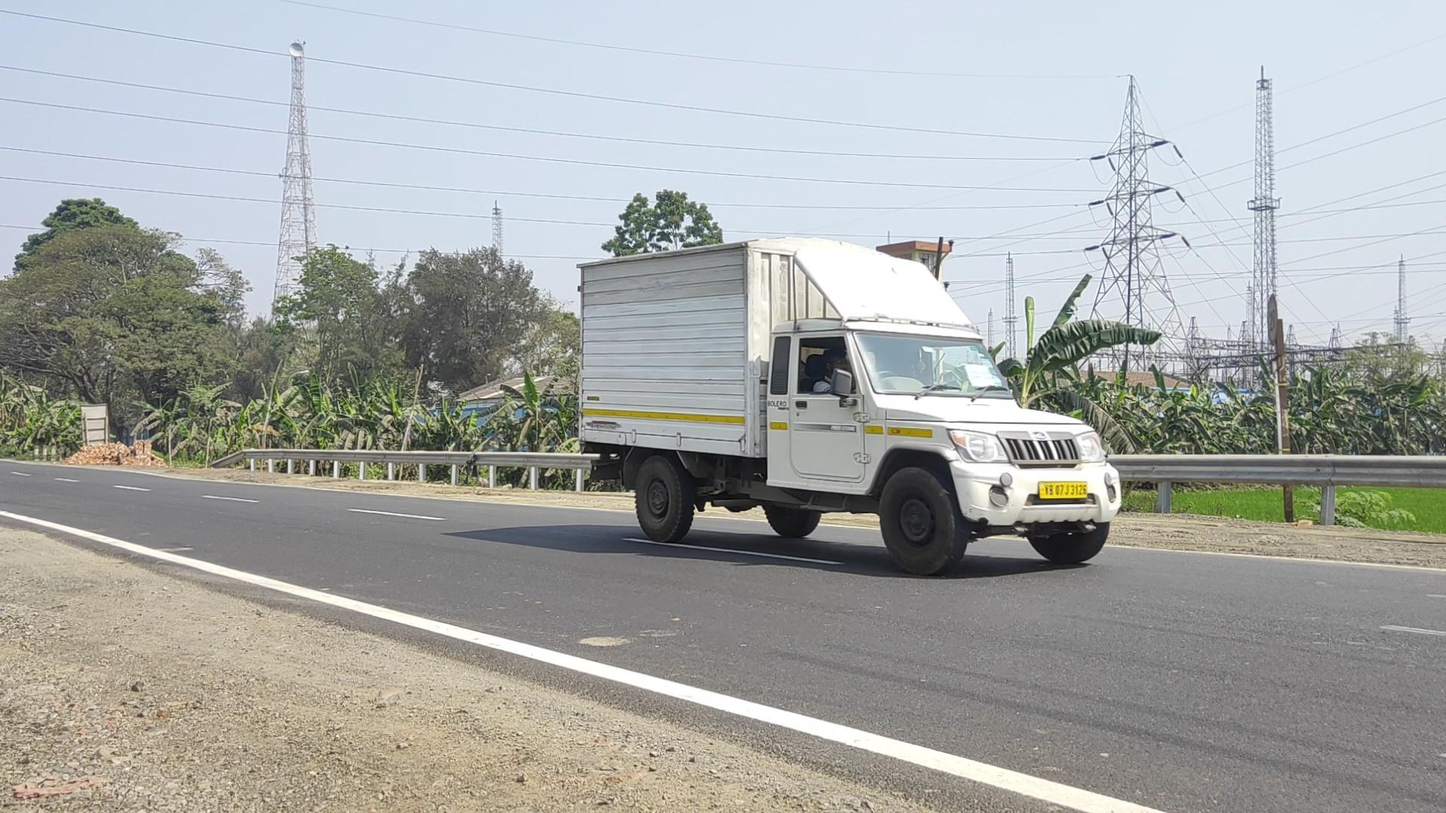van: (574, 236, 1121, 573)
